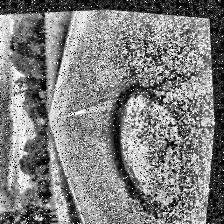pothole: (97, 74, 200, 224)
